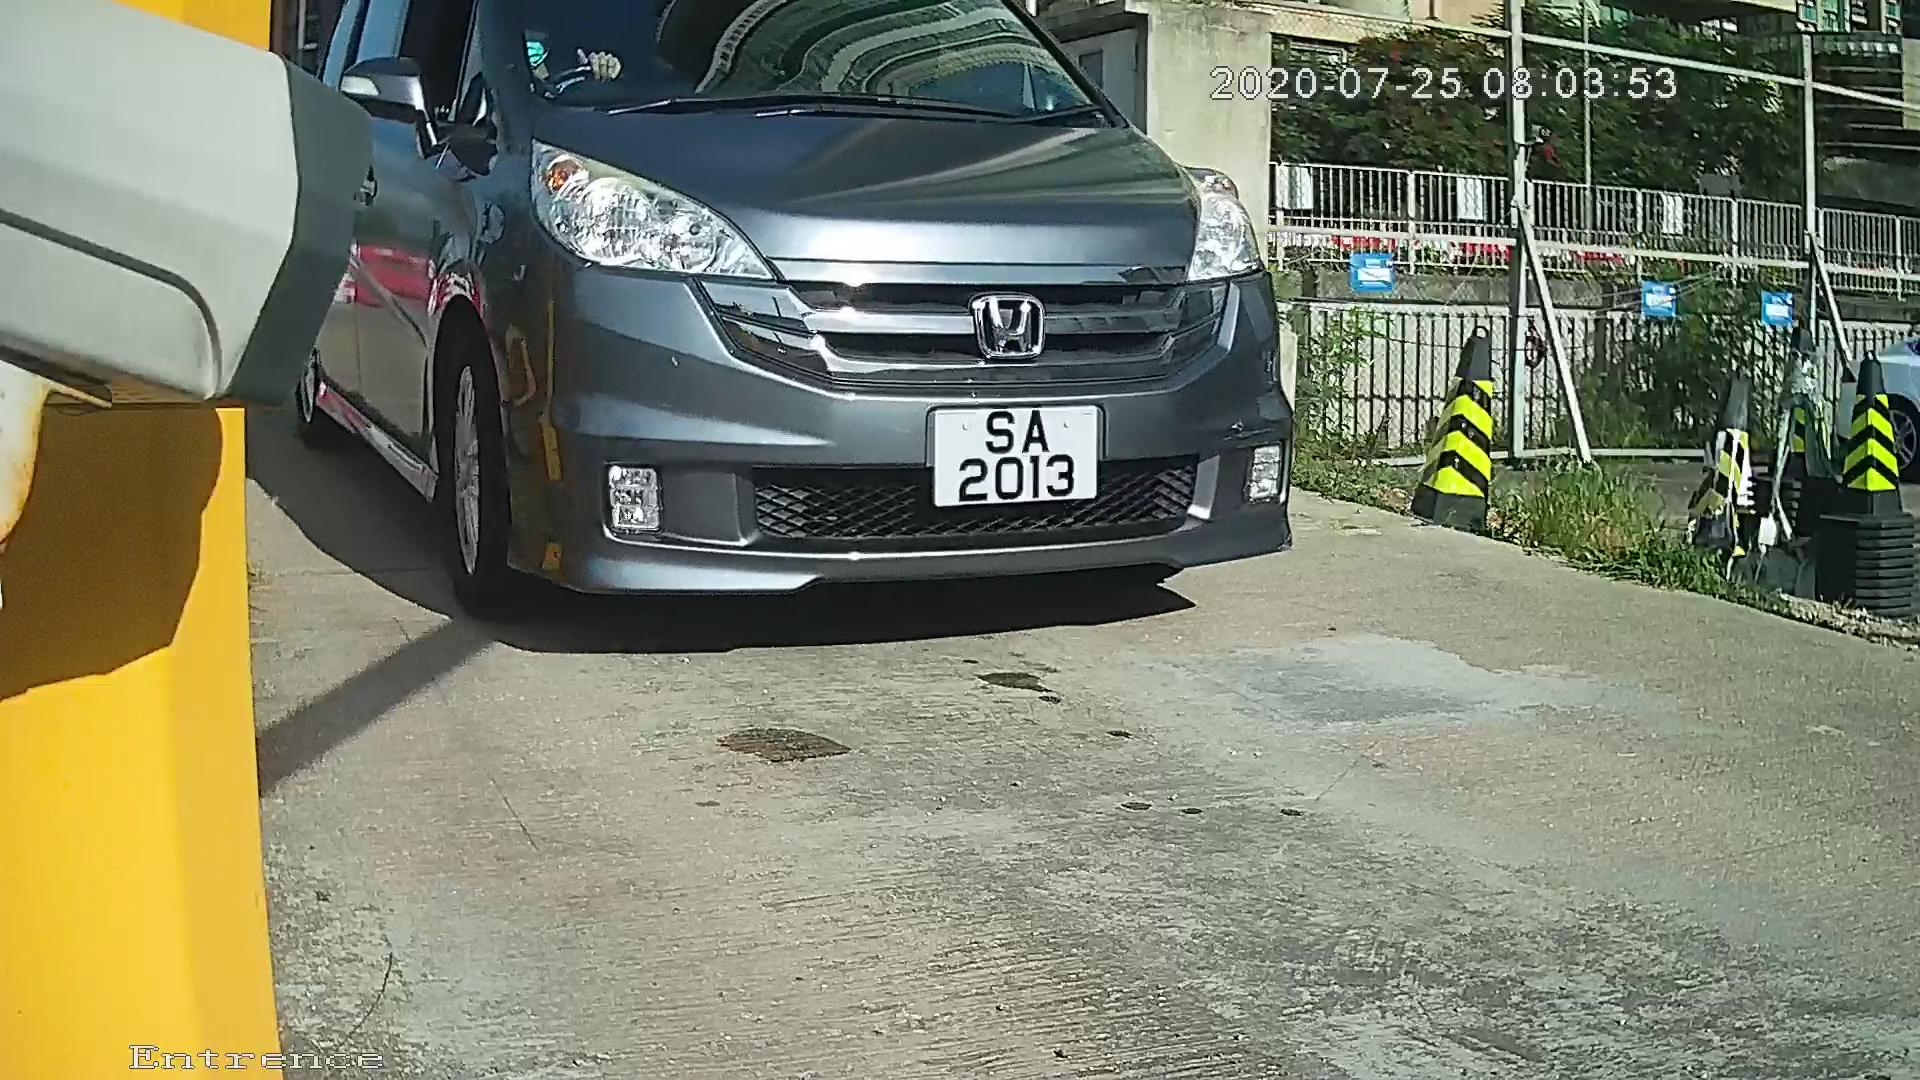Car: (103, 1, 1406, 700)
License Plate: (901, 391, 1123, 521)
